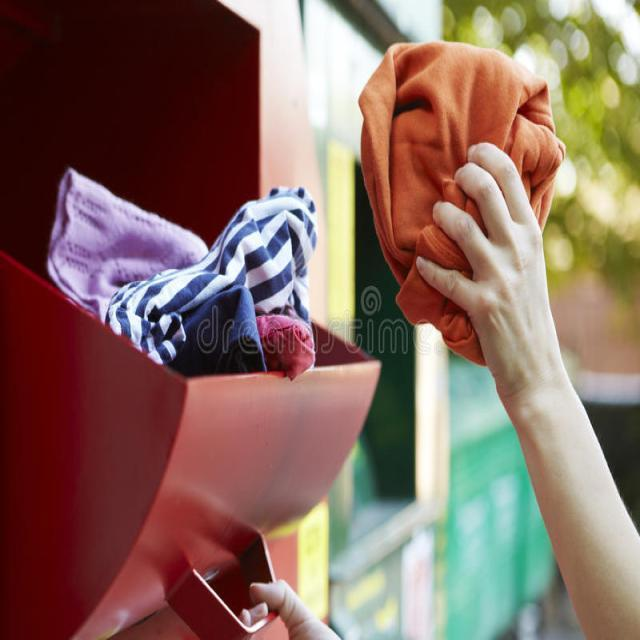clothes: (59, 143, 316, 365), (368, 26, 551, 332)
